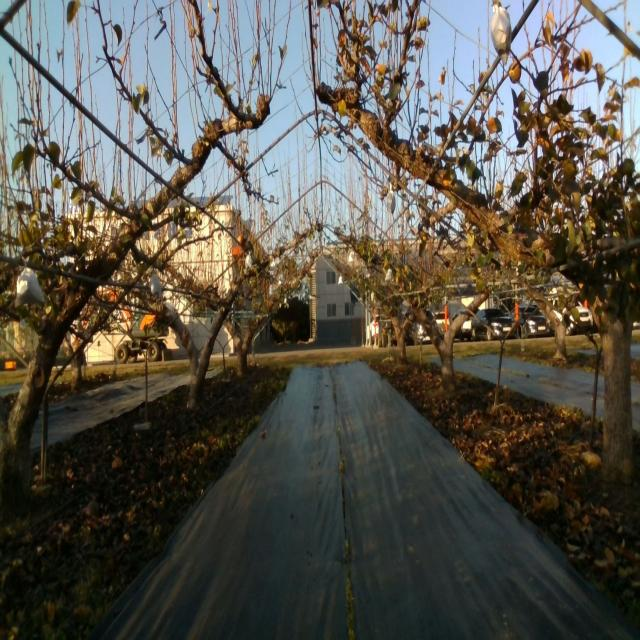pearbags: (14, 268, 46, 310), (491, 4, 512, 66), (150, 274, 162, 301)
